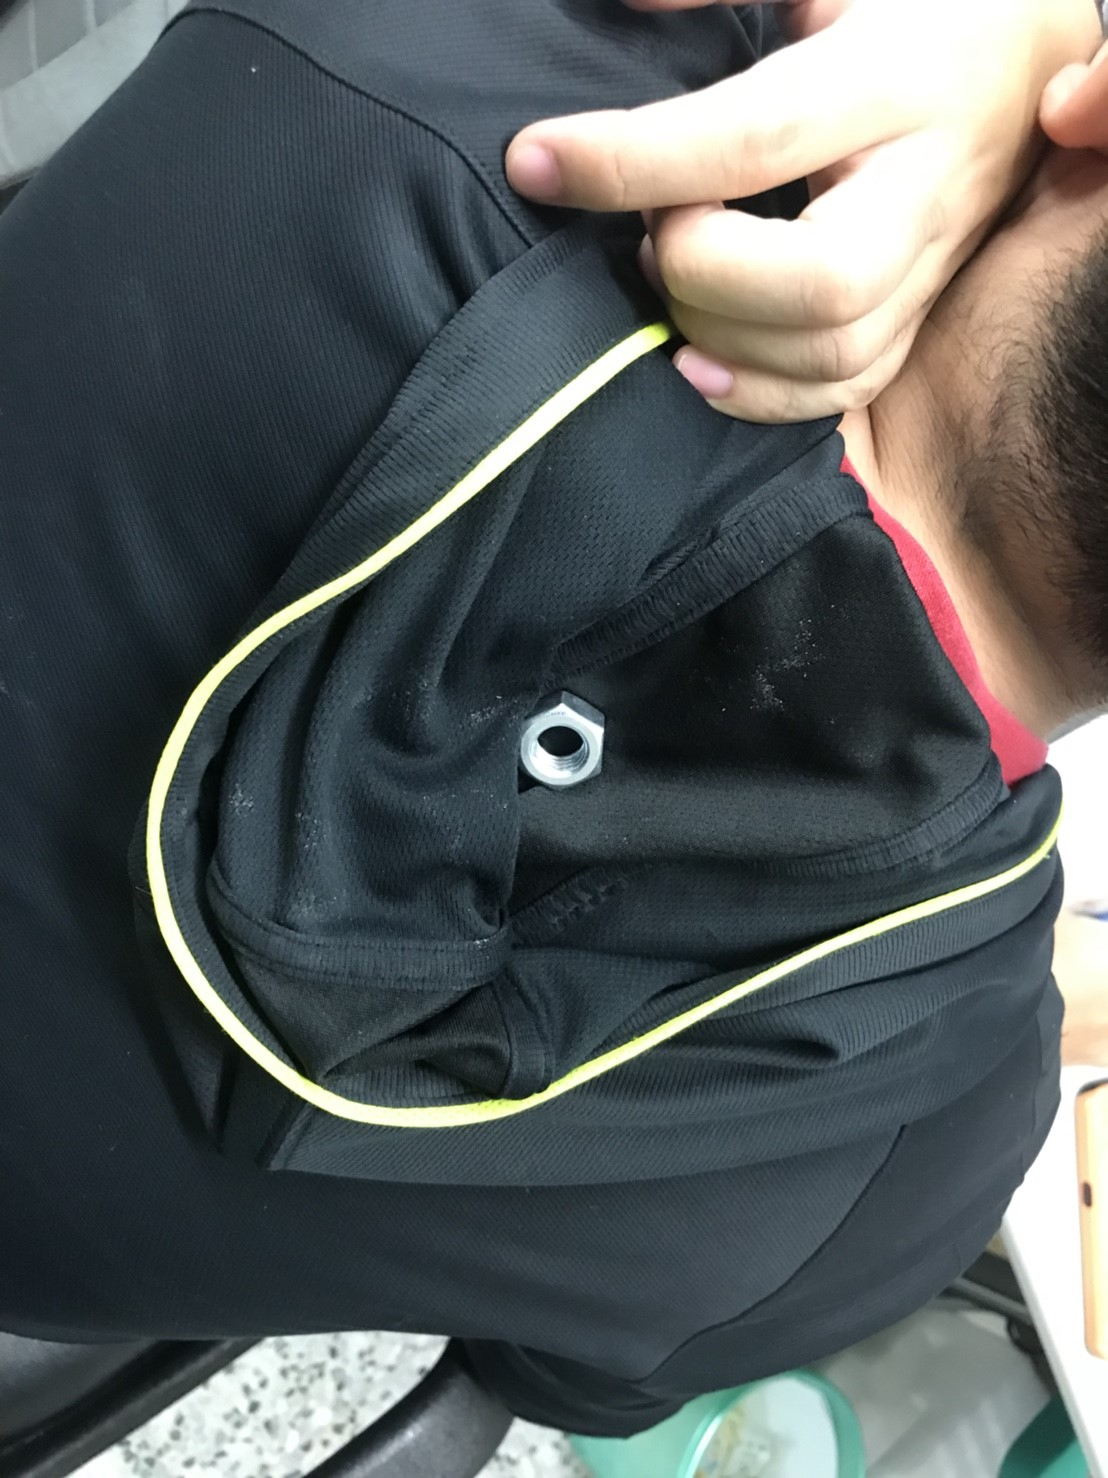nut: (513, 689, 613, 793)
